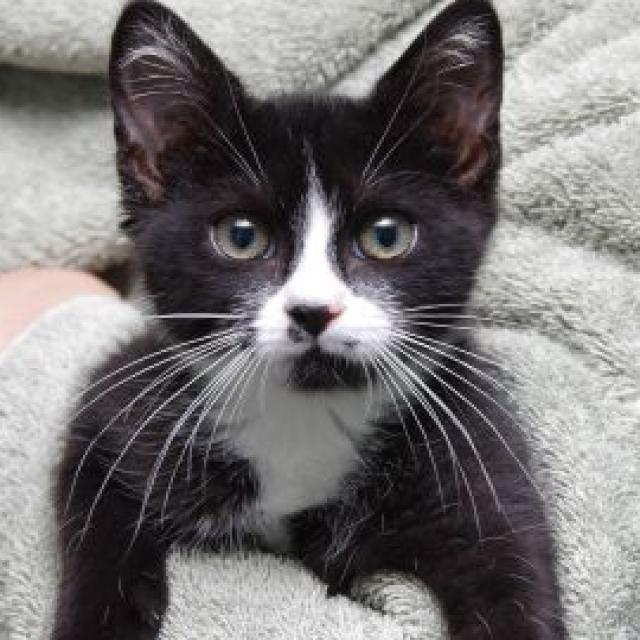Tuxedo: (43, 0, 571, 640)
